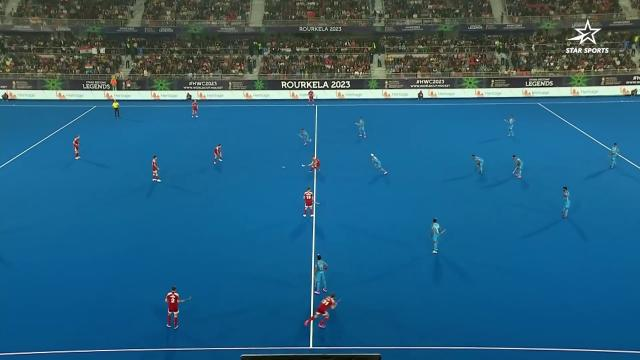ball: (281, 165, 287, 171)
